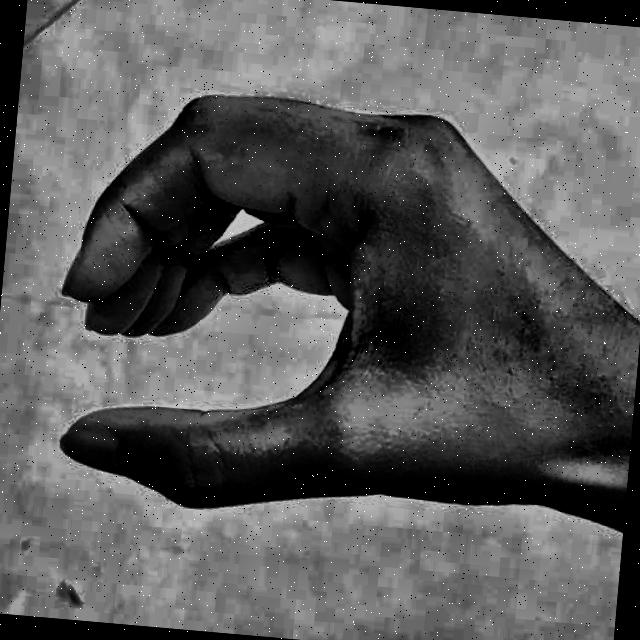Ka: (17, 29, 610, 594)
